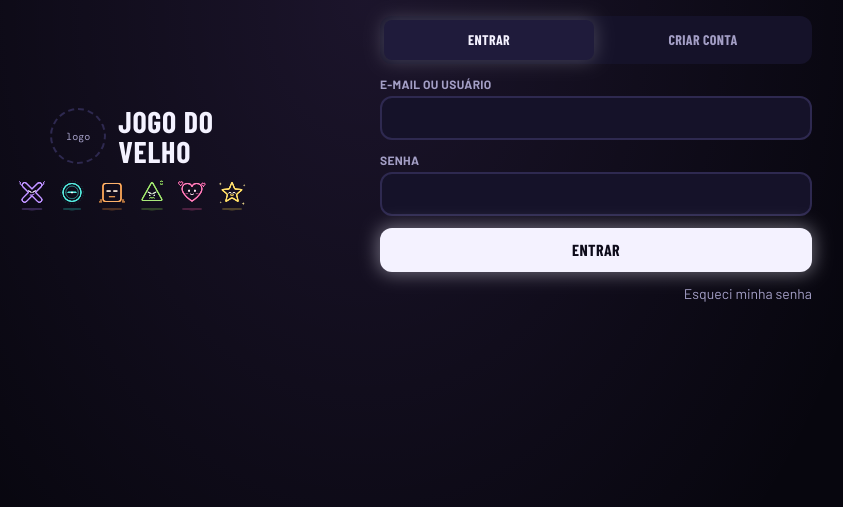
it: Entrar › senha errada mostra mensagem e libera o botão
The width and height of the screenshot is (843, 507).
Type "vini" into the field labelled "E-mail ou usuário" at (596, 118), box [380,96,812,140]
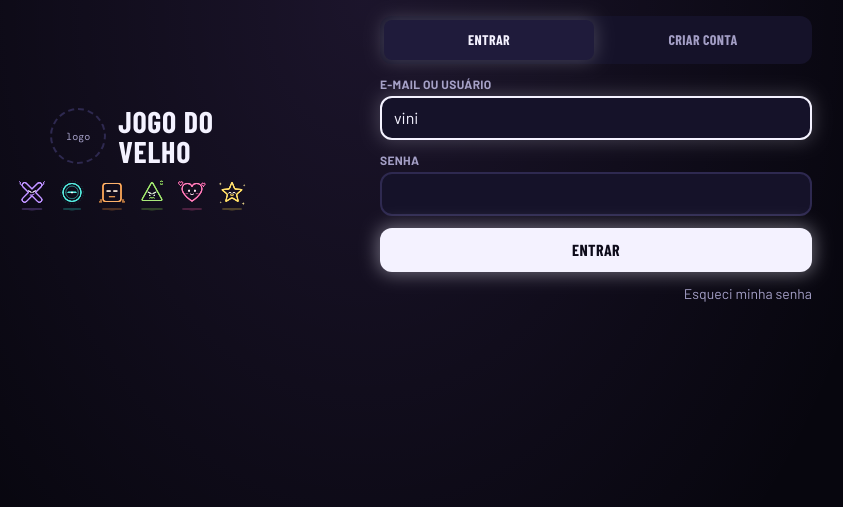
Type "errada1" into the password field labelled "Senha" at (596, 194), box [380,172,812,216]
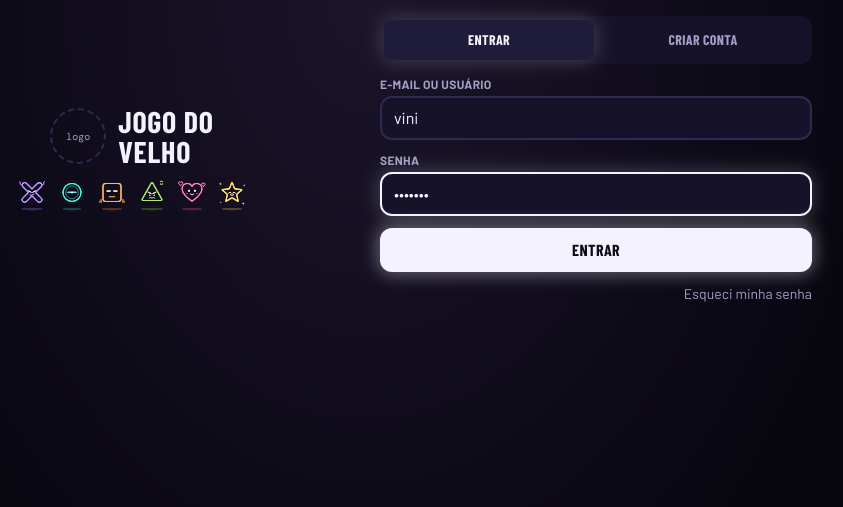
Click the button "Entrar" at (596, 250), box [380,228,812,272]
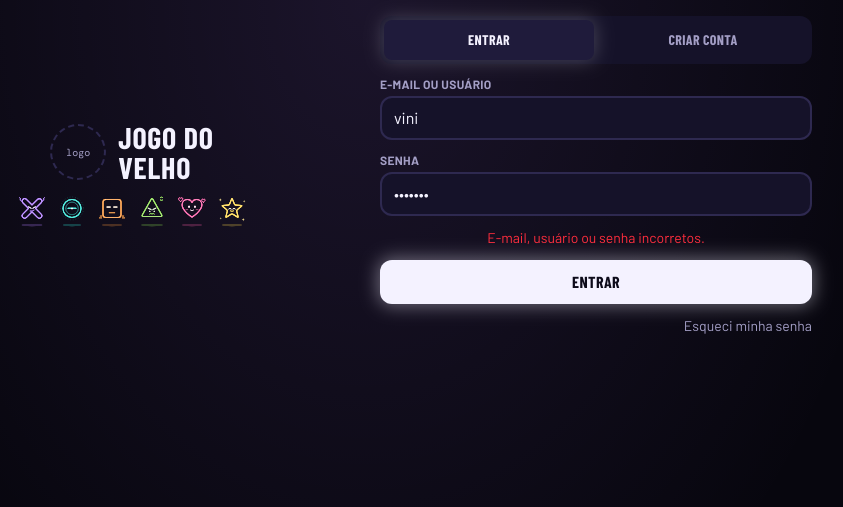
Expected: the button "Entrar" is enabled, [380,260,812,304]
Expected: the message reads "E-mail, usuário ou senha incorretos.", [487,229,705,246]
